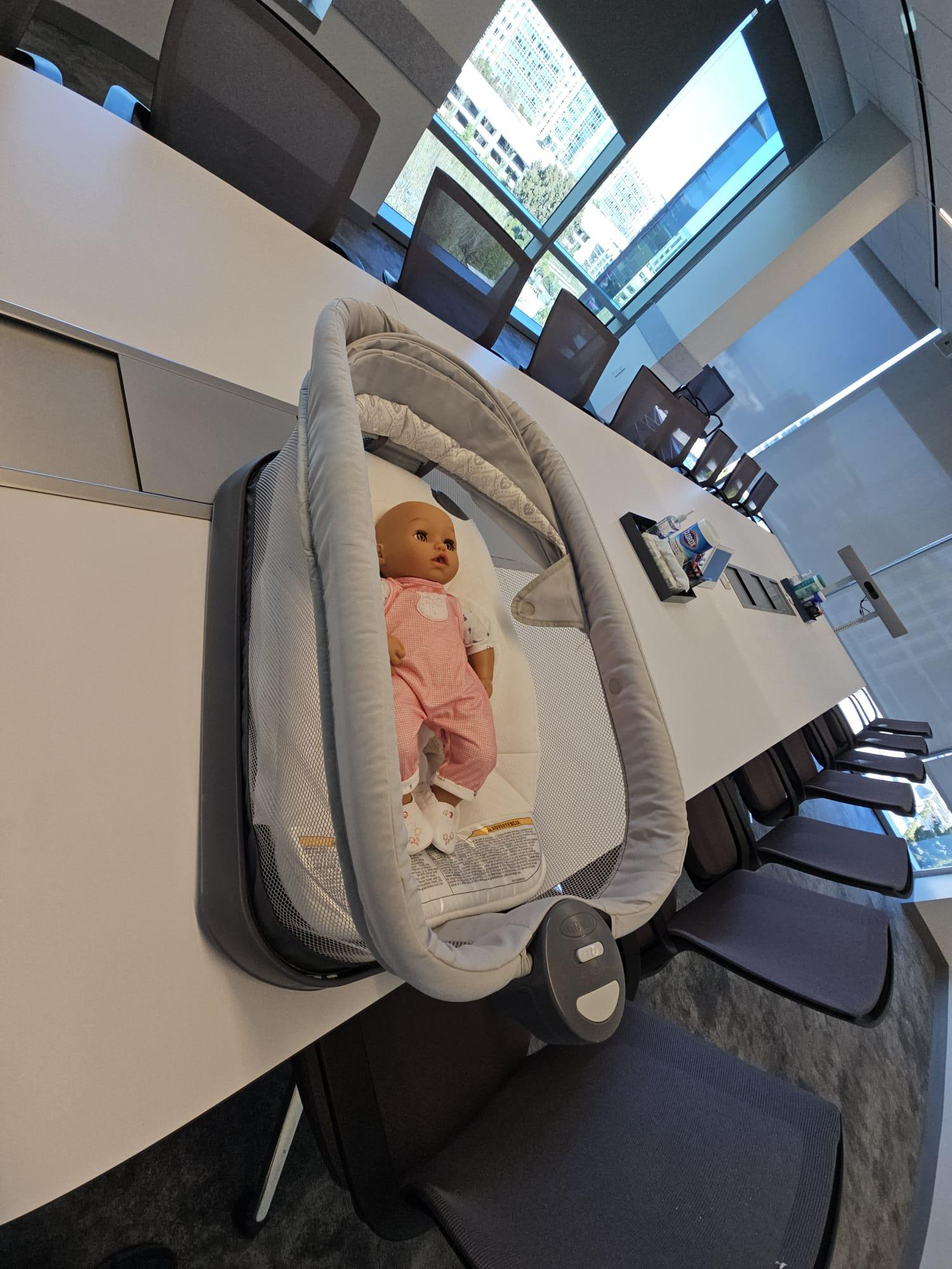baby: (365, 463, 518, 820)
